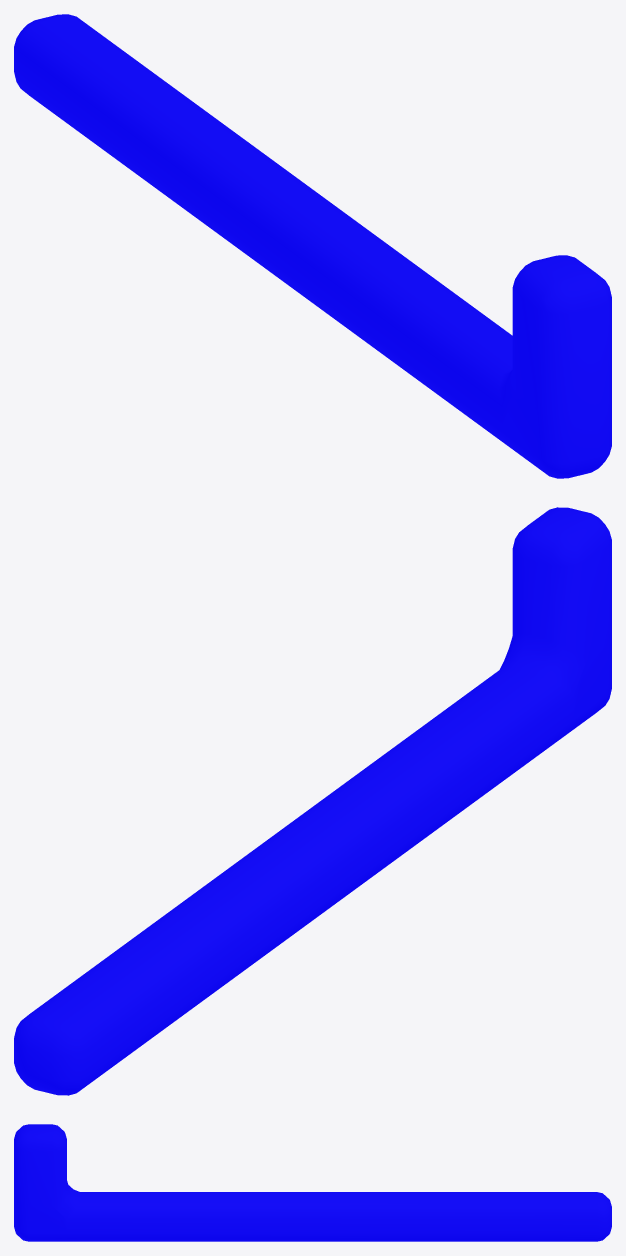
Rendered from Halterung.fbx.
3 views of the same model, one above another, from view 1: azimuth 30°, elevation 25°; view 2: azimuth 150°, elevation 25°; view 3: azimuth 270°, elevation 25° (orthographic). The views are drawn at different scales.
Parts seen in each view (by area): view 1: Halterung_Export; view 2: Halterung_Export; view 3: Halterung_Export.
Part boxes in pixels (x1,y1,x2,y2): Halterung_Export: (14,14,611,478); Halterung_Export: (14,507,611,1095); Halterung_Export: (14,1124,611,1241).
Bounding box in the file's own units: 3 × 8 × 40.
